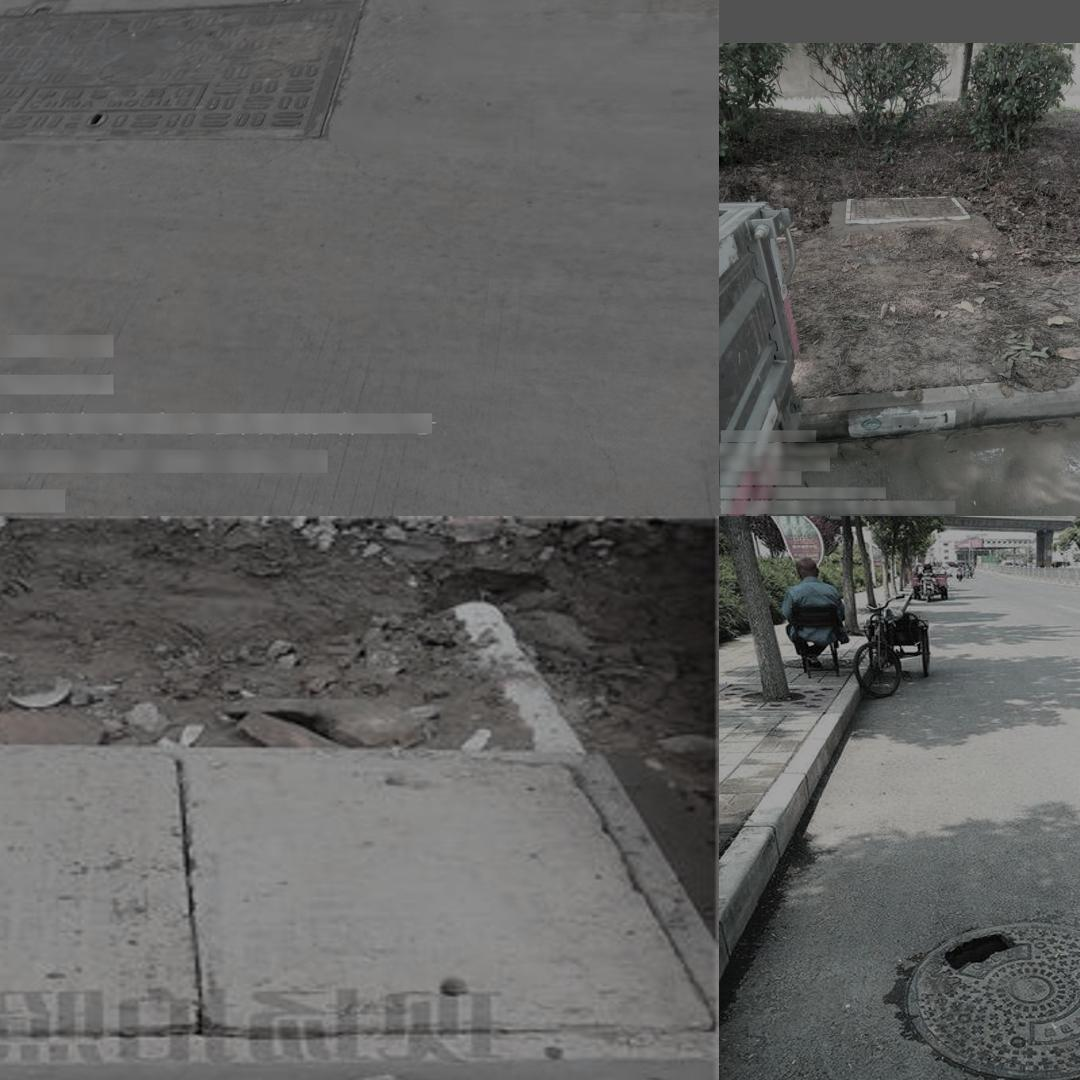good: (0, 739, 715, 1080), (0, 0, 394, 151), (879, 903, 1080, 1080), (845, 195, 971, 224)
